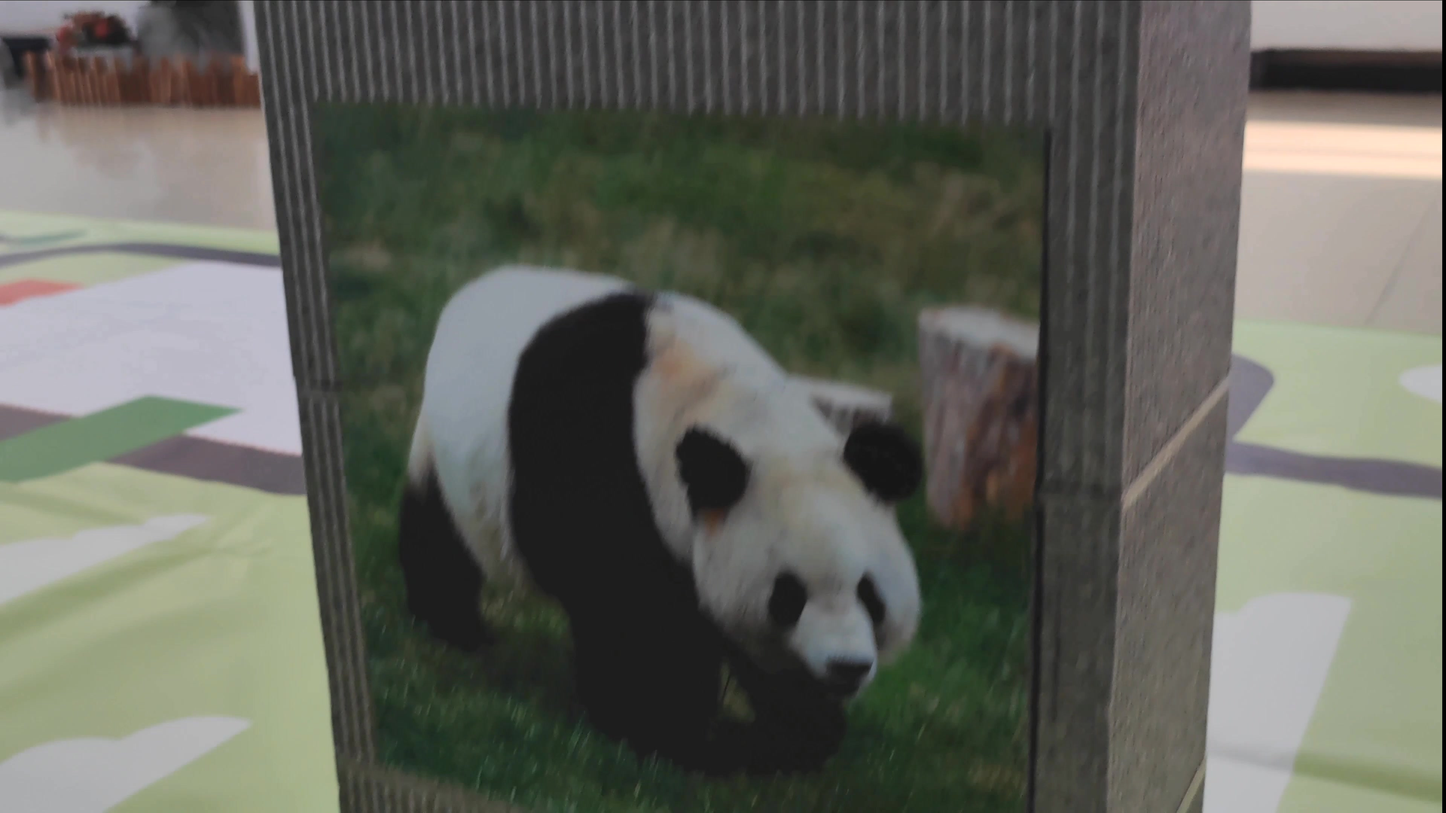panda: (375, 224, 917, 778)
